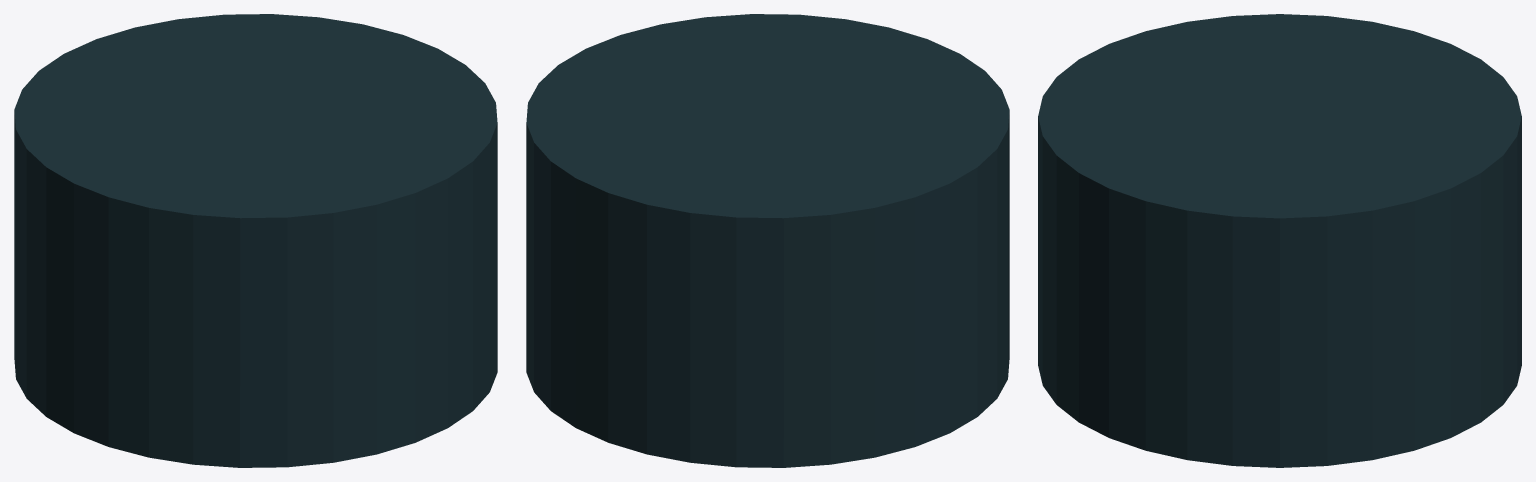
The model's file is wheel.obj.
3 views of the same model, side by side, from view 1: azimuth 30°, elevation 25°; view 2: azimuth 150°, elevation 25°; view 3: azimuth 270°, elevation 25° (orthographic).
Bounding box in the file's own units: 2.99 × 1.7 × 2.99.
